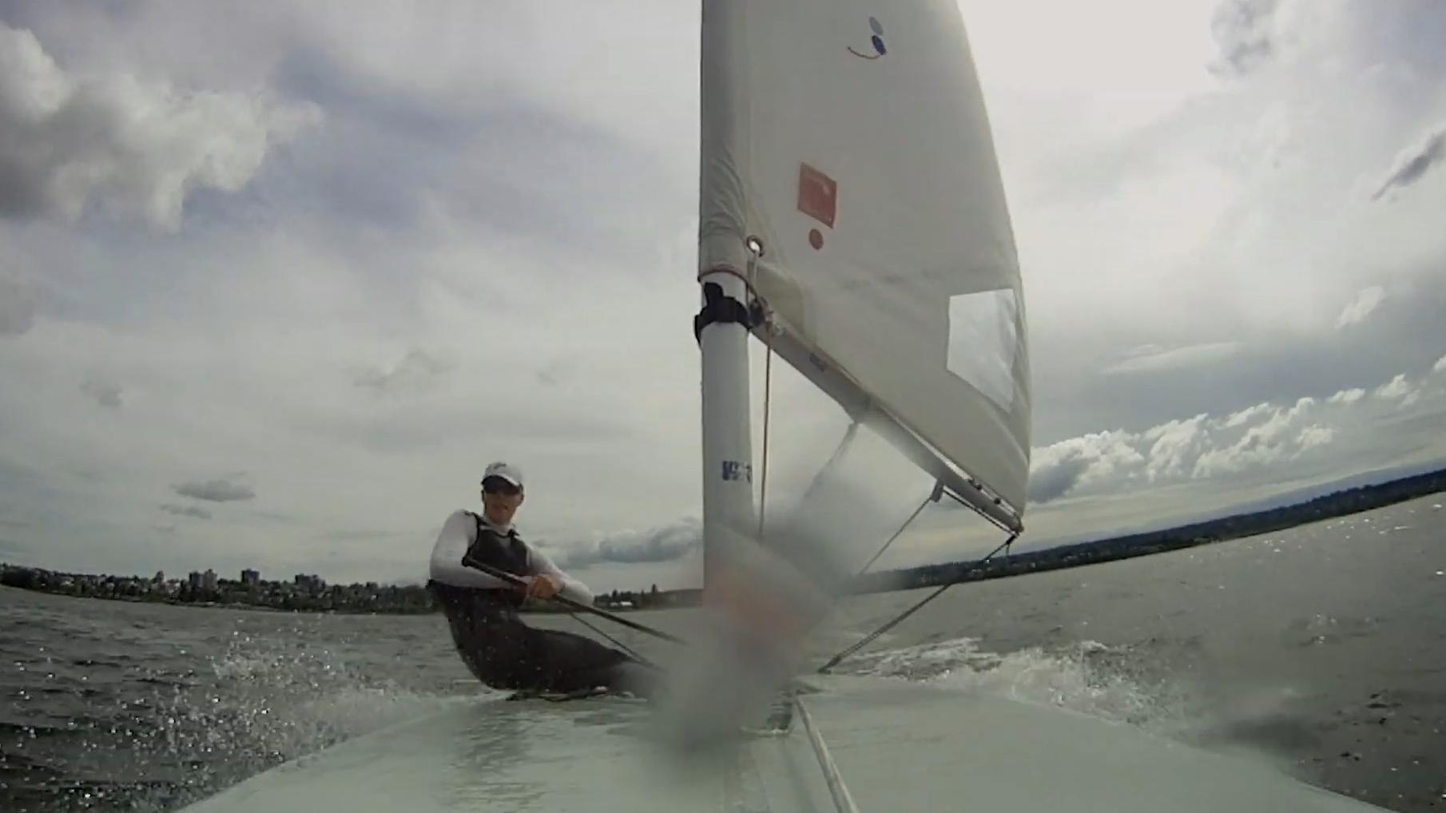boat: (171, 0, 1393, 813)
land: (853, 472, 1446, 592), (0, 564, 434, 611), (590, 592, 695, 610)
person: (426, 464, 657, 699)
sea: (824, 493, 1446, 813), (0, 588, 499, 813), (524, 610, 701, 661)
sky: (0, 0, 704, 598), (749, 0, 1446, 585)
